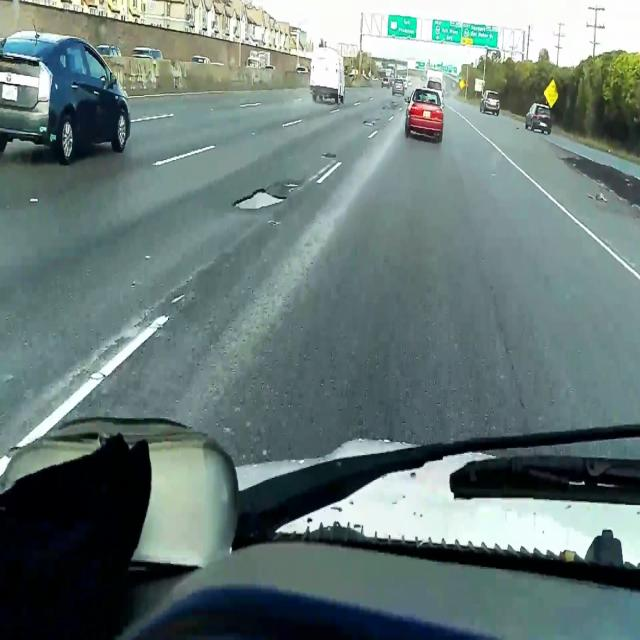Pothole: (232, 188, 289, 211), (362, 118, 374, 130), (383, 101, 399, 110), (321, 152, 337, 158)
